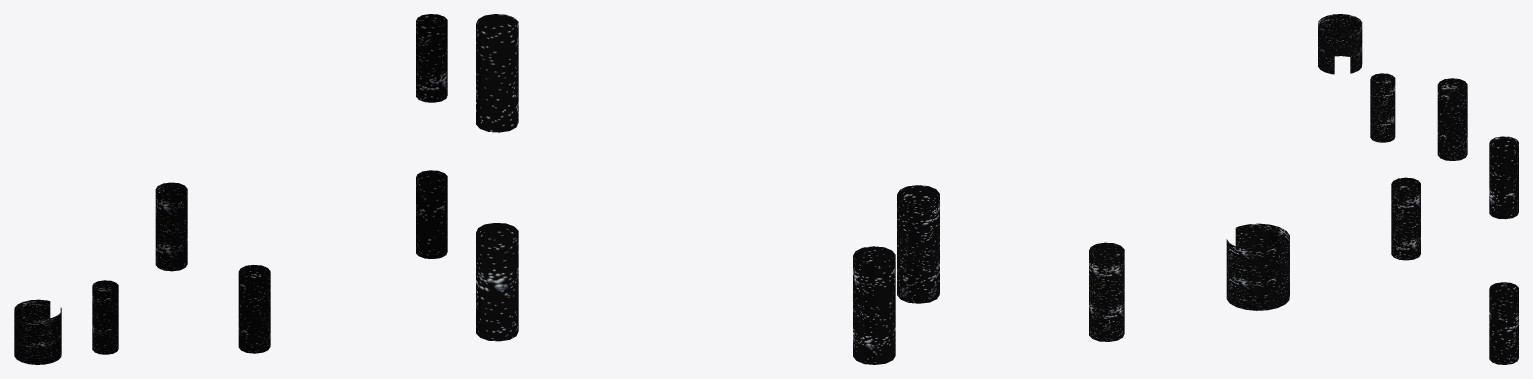
File: stg610_MotTank_23.obj
3 renders of one model, left to right at view 1: azimuth 30°, elevation 25°; view 2: azimuth 150°, elevation 25°; view 3: azimuth 270°, elevation 25°, orthographic. The views are drawn at different scales.
Parts seen in each view (by area): view 1: polygon3, polygon2, polygon1, polygon5, polygon4, polygon0; view 2: polygon1, polygon5, polygon2, polygon3, polygon4, polygon0; view 3: polygon3, polygon5, polygon2, polygon4, polygon1, polygon0.
Part boxes in pixels (x1,y1,x2,y2): polygon3: (155,182,187,271); polygon2: (238,265,270,353); polygon1: (14,299,61,364); polygon5: (416,14,447,102); polygon4: (416,170,447,258); polygon0: (92,280,118,354); polygon1: (1226,223,1289,310); polygon5: (476,14,518,132); polygon2: (853,246,895,364); polygon3: (897,185,939,303); polygon4: (476,223,518,341); polygon0: (1089,242,1124,341); polygon3: (1437,78,1467,160); polygon5: (1489,136,1518,219); polygon2: (1391,177,1420,260); polygon4: (1489,282,1518,364); polygon1: (1318,14,1362,74); polygon0: (1370,73,1395,142).
Bounding box in the file's own units: 2676 × 1149 × 968.
1 material, 1 textured.
